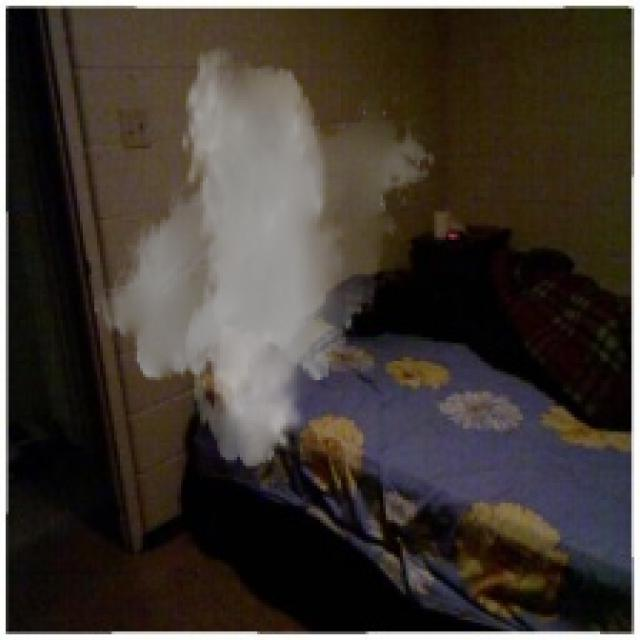smoke: (92, 46, 437, 468)
